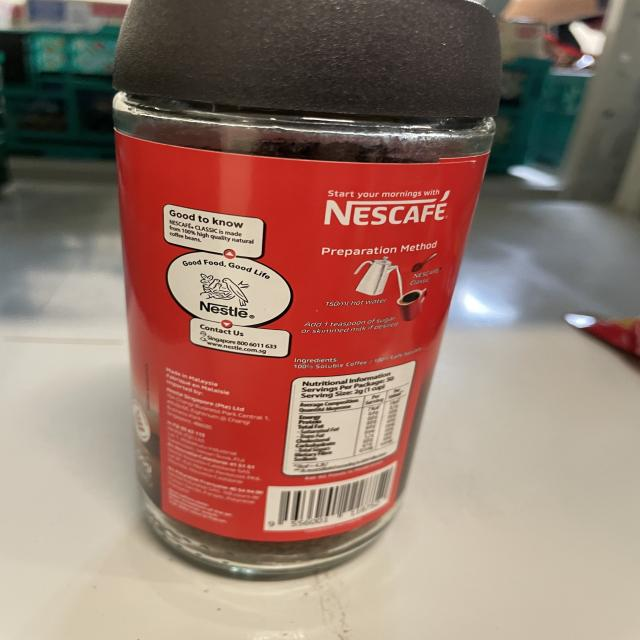object_name: (117, 5, 437, 558)
